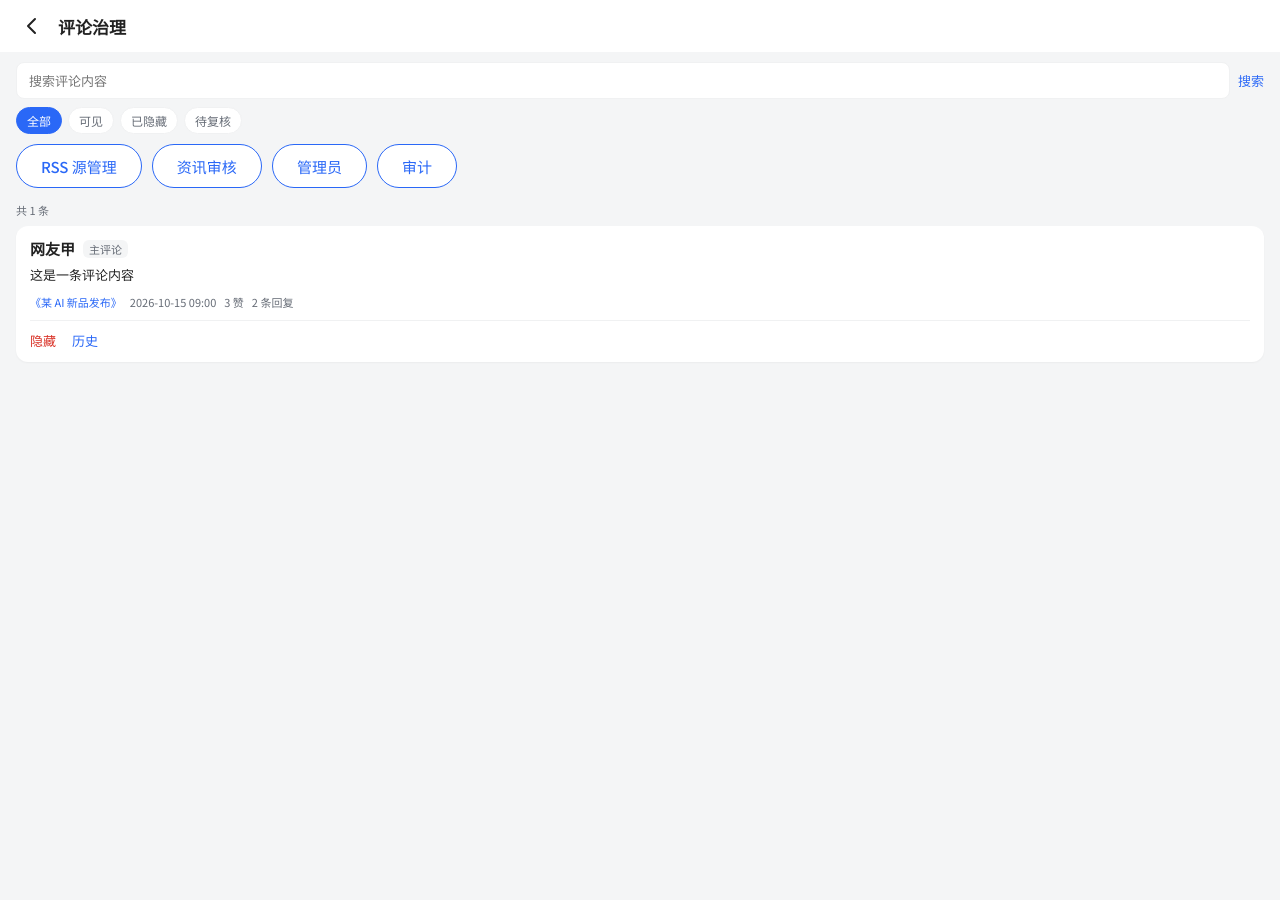
Test: views/AdminComments 隐藏与恢复 › 隐藏失败时错误留在弹层内，行不变
Click the button "隐藏": (43,340) left=30, top=331, right=56, bottom=350
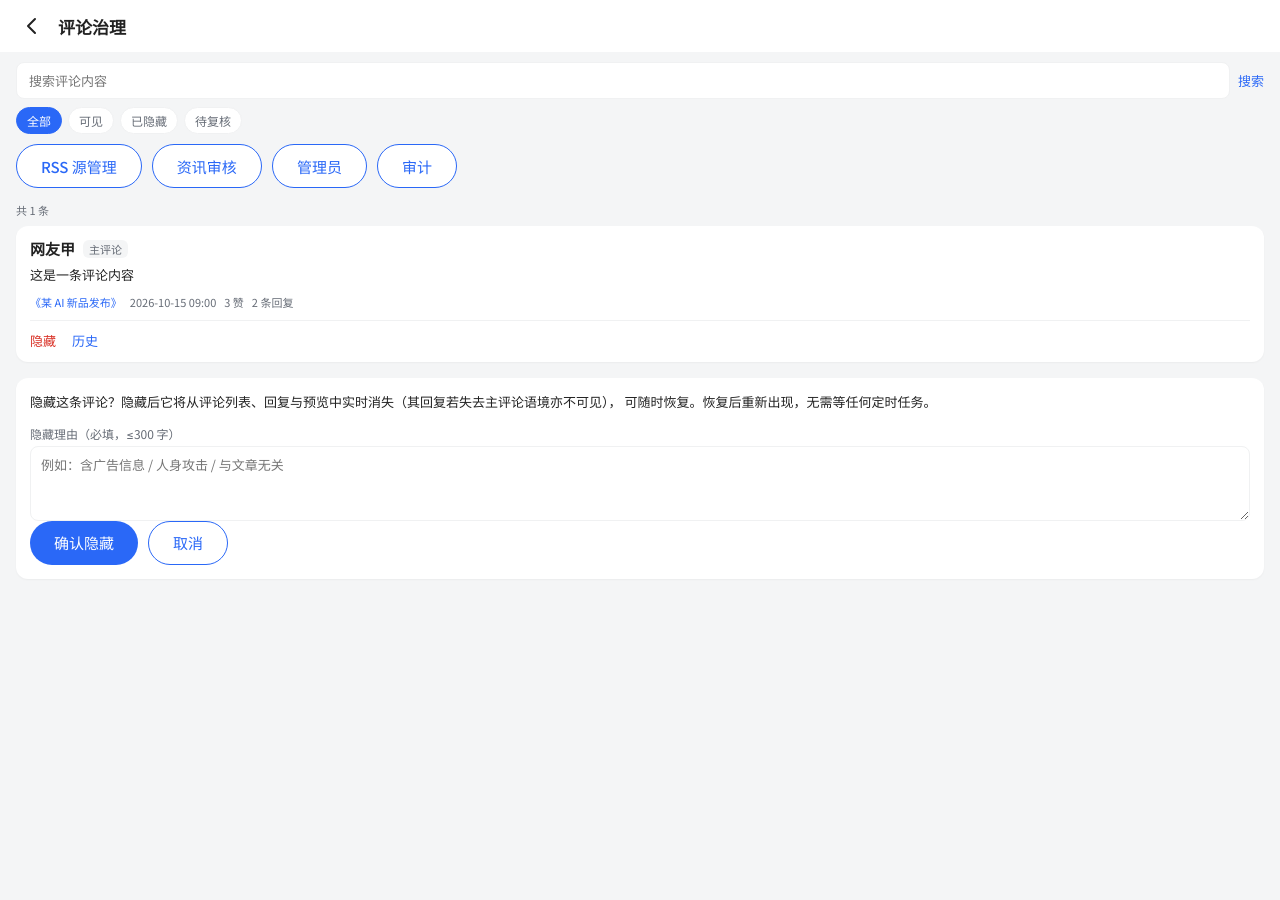
In the text box labelled "隐藏理由（必填，≤300 字）": (640,483) left=30, top=446, right=1250, bottom=521, type "含广告信息"
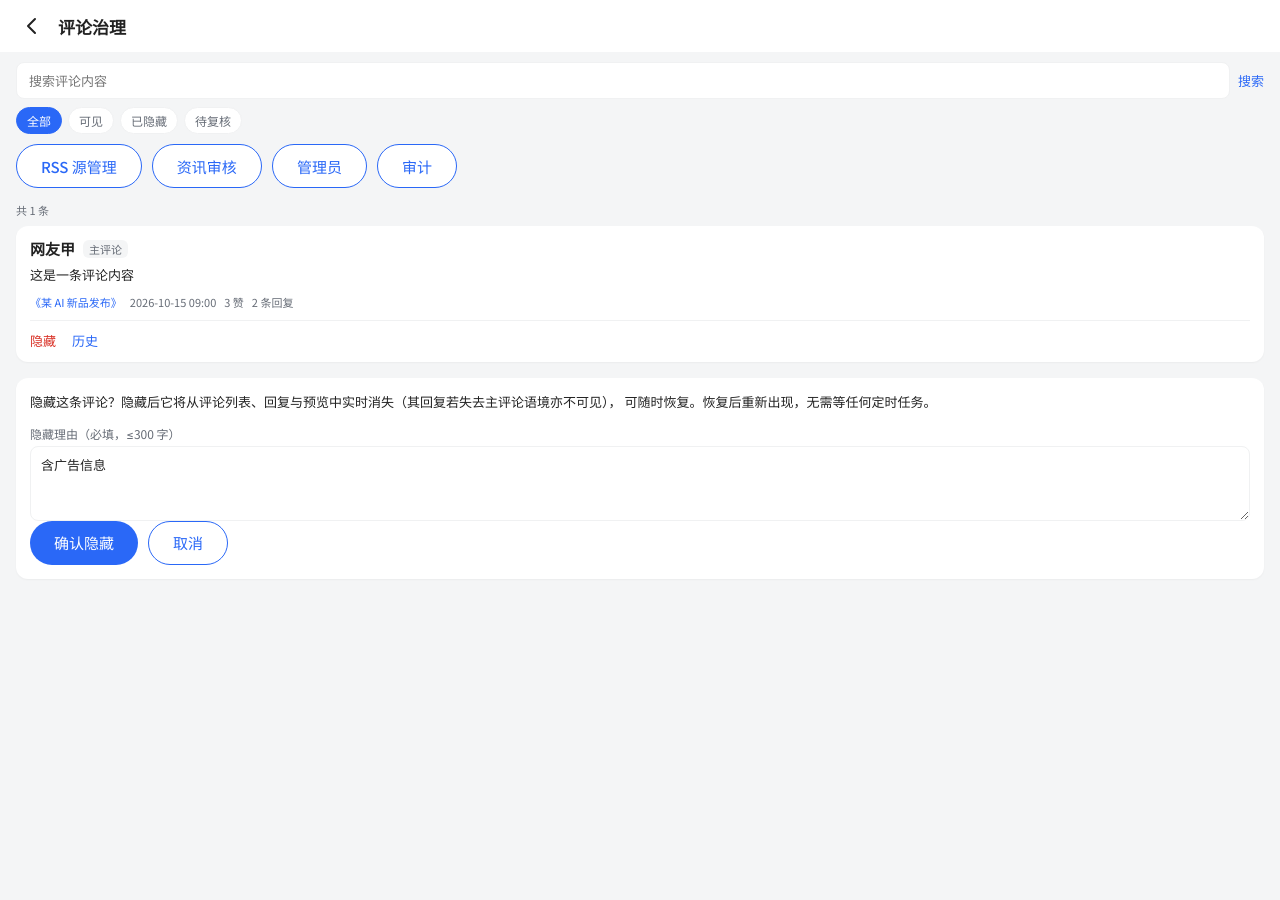
Click the button "确认隐藏": (84,543) left=30, top=521, right=138, bottom=565
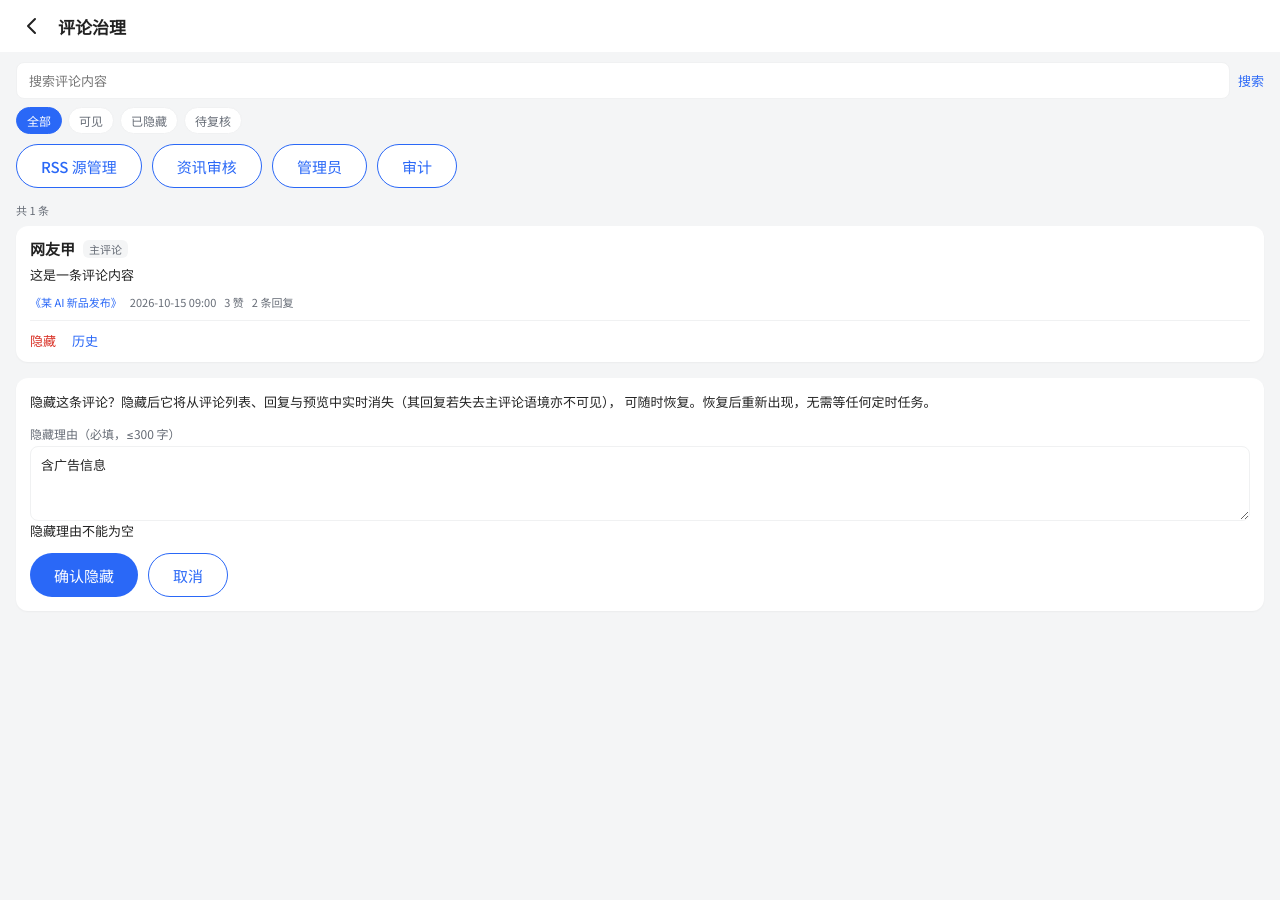
Check: the button "隐藏" is shown, box left=30, top=331, right=56, bottom=350
Check: the dialog with class "admin__confirm" is shown, box left=16, top=378, right=1264, bottom=611
Check: the text "隐藏理由不能为空" is shown, box left=30, top=521, right=134, bottom=540
